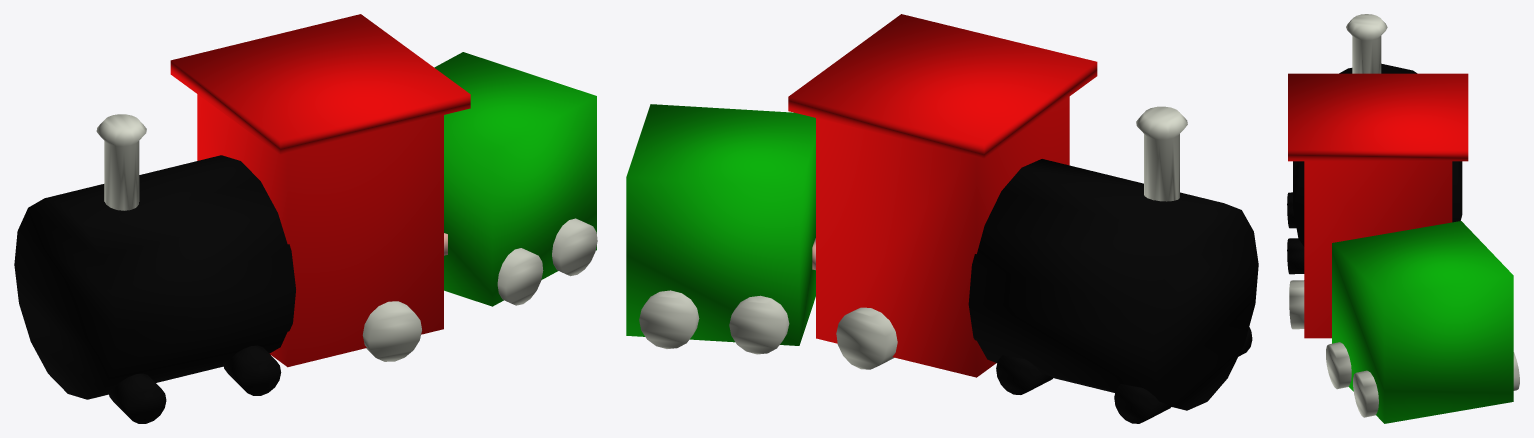
The model's file is maquina.gltf.
3 views of the same model, side by side, from view 1: azimuth 30°, elevation 25°; view 2: azimuth 150°, elevation 25°; view 3: azimuth 270°, elevation 25° (orthographic). The views are drawn at different scales.
Parts seen in each view (by area): view 1: Cylinder587; view 2: Cylinder587; view 3: Cylinder587.
Boxes of the visible parts, x1,y1,x2,y2 form: Cylinder587: (14, 14, 597, 423); Cylinder587: (626, 14, 1258, 423); Cylinder587: (1287, 14, 1519, 423).
Size of the model in its own units: 0.4894 by 0.2305 by 0.2246.
